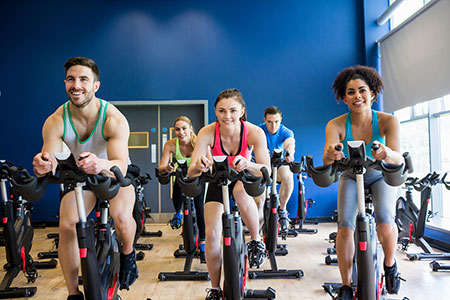gym_bike: (44, 161, 152, 300), (307, 147, 403, 300), (185, 167, 272, 300)
